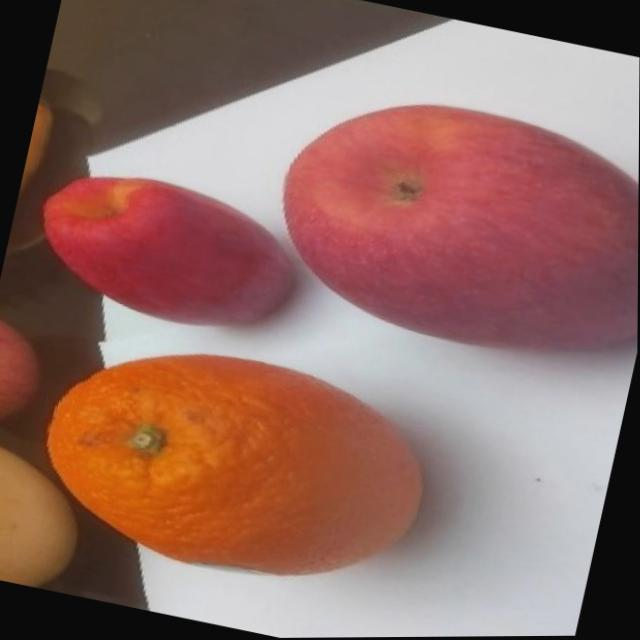Apple: (257, 72, 640, 380), (22, 155, 311, 346)
Orange: (24, 318, 445, 609)
